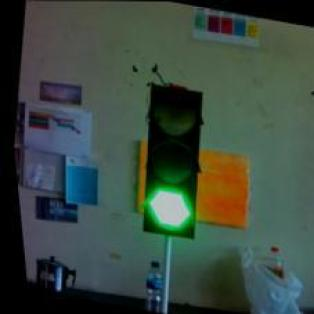Semaforo Verde: (124, 84, 216, 240)
